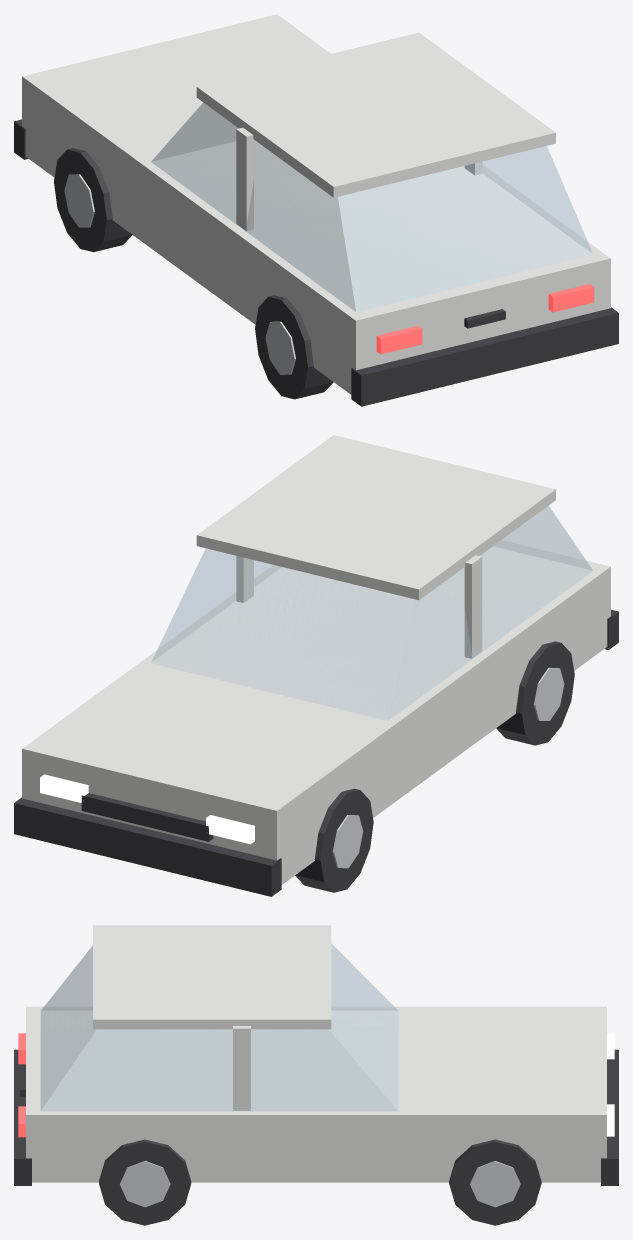
Rendered from car_hatchback_white.glb.
3 renders of one model, top to bottom at view 1: azimuth 30°, elevation 25°; view 2: azimuth 150°, elevation 25°; view 3: azimuth 270°, elevation 25°, orthographic. The views are drawn at different scales.
Visible parts, largest first — view 1: body, wheel_fl, wheel_rl; view 2: body, wheel_fl, wheel_rl; view 3: body, wheel_fr, wheel_rr.
Boxes of the visible parts, bbox=[...] form: body: bbox=[14, 14, 618, 406]; wheel_fl: bbox=[54, 148, 132, 252]; wheel_rl: bbox=[255, 295, 333, 399]; body: bbox=[14, 435, 618, 896]; wheel_fl: bbox=[295, 788, 373, 892]; wheel_rl: bbox=[496, 641, 574, 745]; body: bbox=[14, 925, 618, 1185]; wheel_fr: bbox=[449, 1139, 541, 1225]; wheel_rr: bbox=[99, 1139, 191, 1225].
Bounding box in the file's own units: 1.82 × 1.46 × 4.06.
